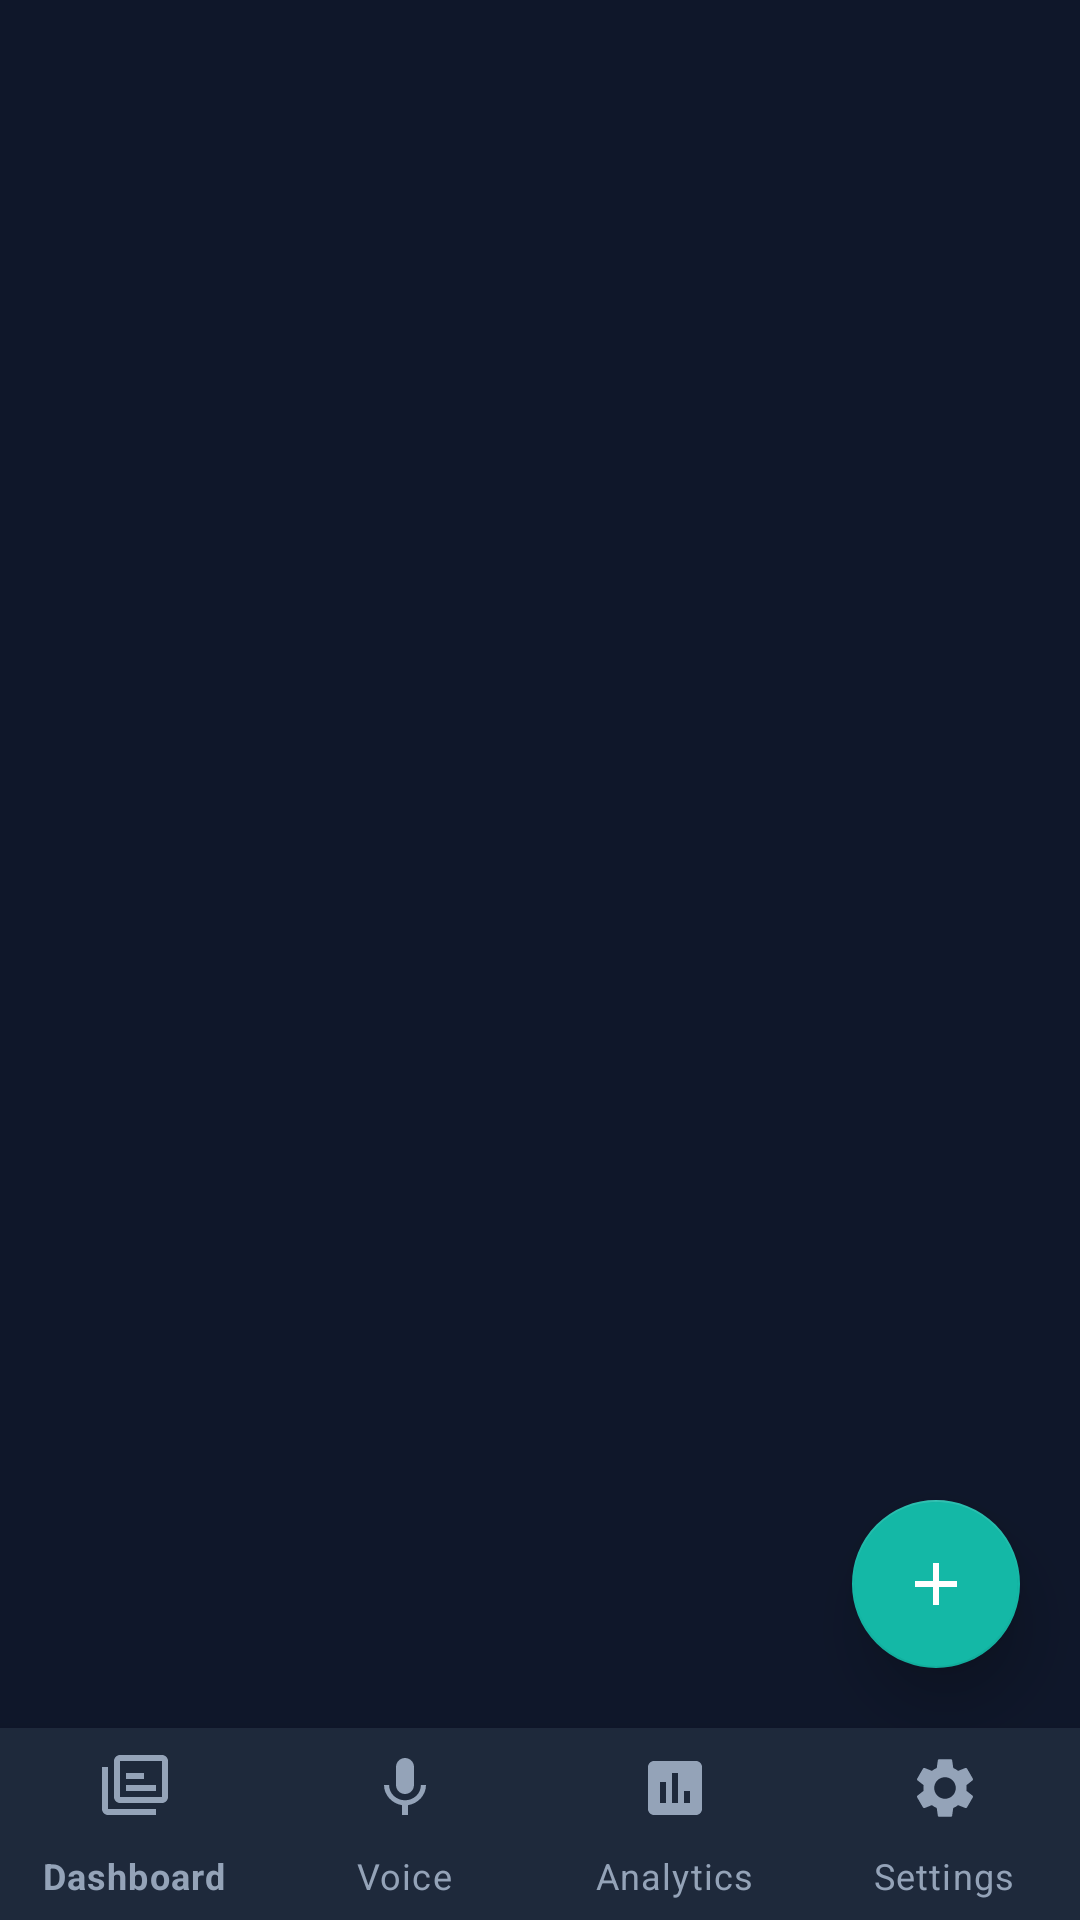

Named icons in this screenshot (1080px×1920px) and their centers, [x,y]:
Add task: [936,1584]
